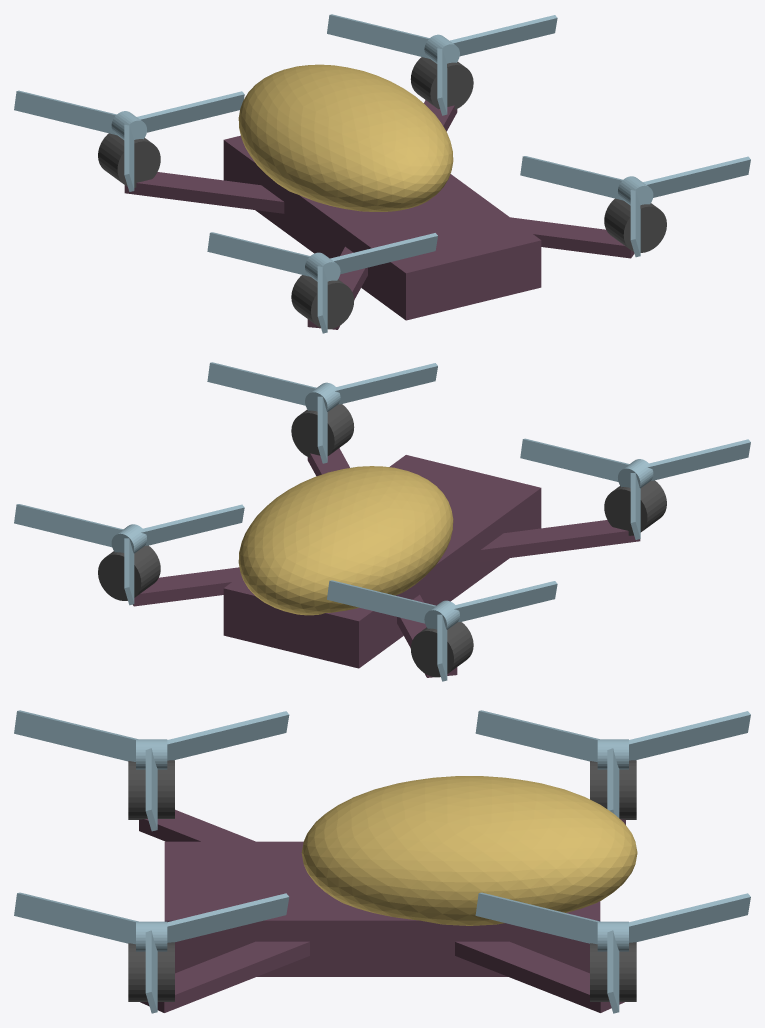
Rendered from Yakuza.glb.
3 renders of one model, top to bottom at view 1: azimuth 30°, elevation 25°; view 2: azimuth 150°, elevation 25°; view 3: azimuth 270°, elevation 25°, orthographic. The views are drawn at different scales.
Visible parts, largest first — view 1: canopy, frame_body, prop_0, prop_1, prop_2, prop_3, arm_3, arm_0, motor_2, motor_0, motor_1, motor_3 (+1 smaller); view 2: canopy, frame_body, prop_3, prop_1, prop_2, prop_0, arm_2, arm_1, motor_3, motor_1, motor_0, motor_2 (+2 smaller); view 3: canopy, frame_body, prop_1, prop_2, prop_0, prop_3, arm_1, arm_0, motor_0, motor_1, arm_2, motor_2 (+1 smaller).
Boxes of the visible parts, bbox=[...] form: canopy: bbox=[238, 64, 453, 211]; frame_body: bbox=[223, 135, 541, 320]; prop_0: bbox=[520, 156, 750, 257]; prop_1: bbox=[327, 14, 557, 115]; prop_2: bbox=[207, 232, 437, 333]; prop_3: bbox=[14, 90, 244, 191]; arm_3: bbox=[124, 172, 284, 213]; arm_0: bbox=[510, 217, 634, 258]; motor_2: bbox=[291, 275, 354, 329]; motor_0: bbox=[604, 198, 666, 252]; motor_1: bbox=[410, 57, 473, 109]; motor_3: bbox=[98, 133, 160, 187]; canopy: bbox=[238, 466, 453, 615]; frame_body: bbox=[223, 455, 541, 668]; prop_3: bbox=[327, 580, 557, 681]; prop_1: bbox=[14, 504, 244, 605]; prop_2: bbox=[520, 438, 750, 539]; prop_0: bbox=[207, 362, 437, 463]; arm_2: bbox=[480, 520, 640, 561]; arm_1: bbox=[133, 567, 241, 606]; motor_3: bbox=[410, 622, 473, 677]; motor_1: bbox=[98, 545, 160, 600]; motor_0: bbox=[291, 404, 354, 457]; motor_2: bbox=[604, 480, 666, 535]; canopy: bbox=[301, 776, 637, 925]; frame_body: bbox=[164, 841, 600, 976]; prop_1: bbox=[475, 892, 750, 1013]; prop_2: bbox=[14, 710, 289, 831]; prop_0: bbox=[14, 892, 289, 1013]; prop_3: bbox=[475, 710, 750, 817]; arm_1: bbox=[455, 941, 624, 1012]; arm_0: bbox=[140, 941, 309, 1012]; motor_0: bbox=[128, 942, 174, 1001]; motor_1: bbox=[590, 942, 636, 1001]; arm_2: bbox=[139, 809, 255, 841]; motor_2: bbox=[128, 760, 174, 819].
Bounding box in the file's own units: 0.2153 × 0.0516 × 0.2369.
